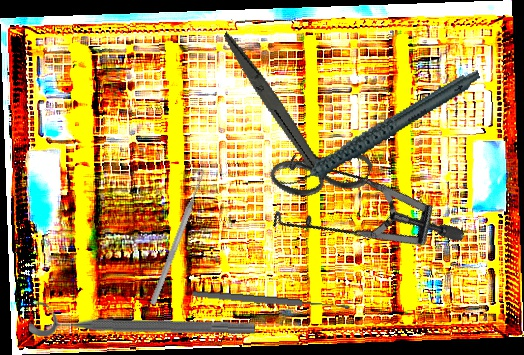Fixation Ring: (28, 300, 256, 340)
Handpiece: (265, 69, 495, 191)
Iris Scissors: (179, 30, 400, 218)
Pusher: (148, 169, 209, 306)
Speculum: (247, 106, 467, 328)
Surgical Spoon: (191, 289, 351, 312)
